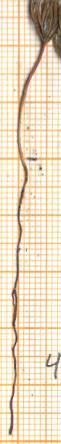flower: (14, 0, 61, 47)
root: (5, 159, 32, 439)
stem: (13, 48, 49, 159)
